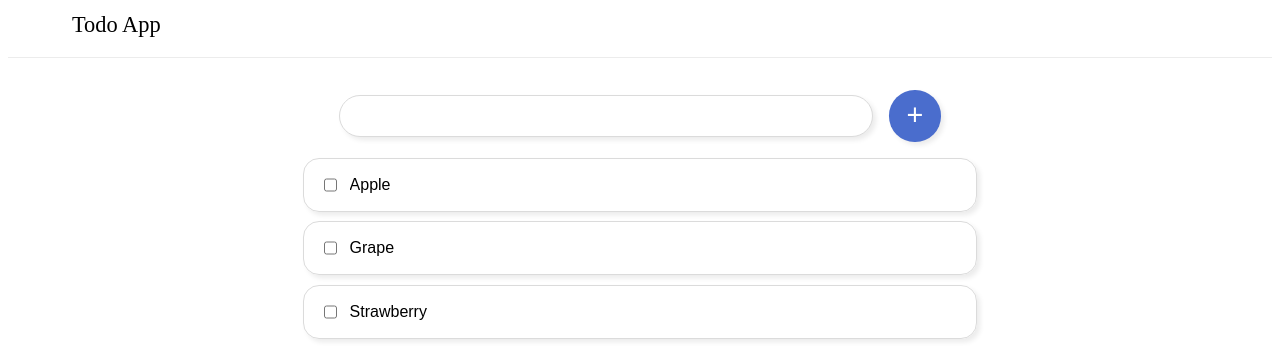
test todo crud operation › can delete todo item
The width and height of the screenshot is (1280, 359).
Click the 2nd checkbox with test id "todoCheckbox" at (331, 248), box [324,241,337,255]
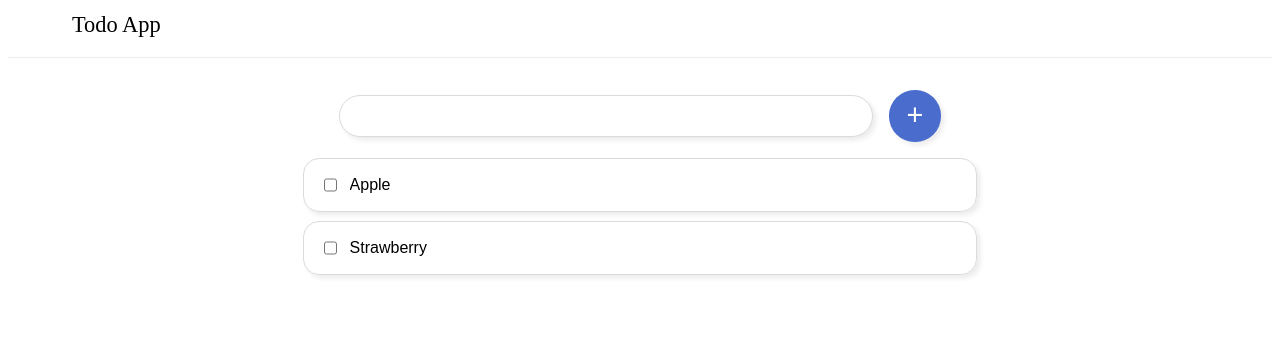
Check: the 2nd field with test id "todoTitle" holds "Apple", box [340,175,559,195]
Check: the number of list items with test id "todoList" is 2, box [303,158,977,212]; [303,221,977,275]
